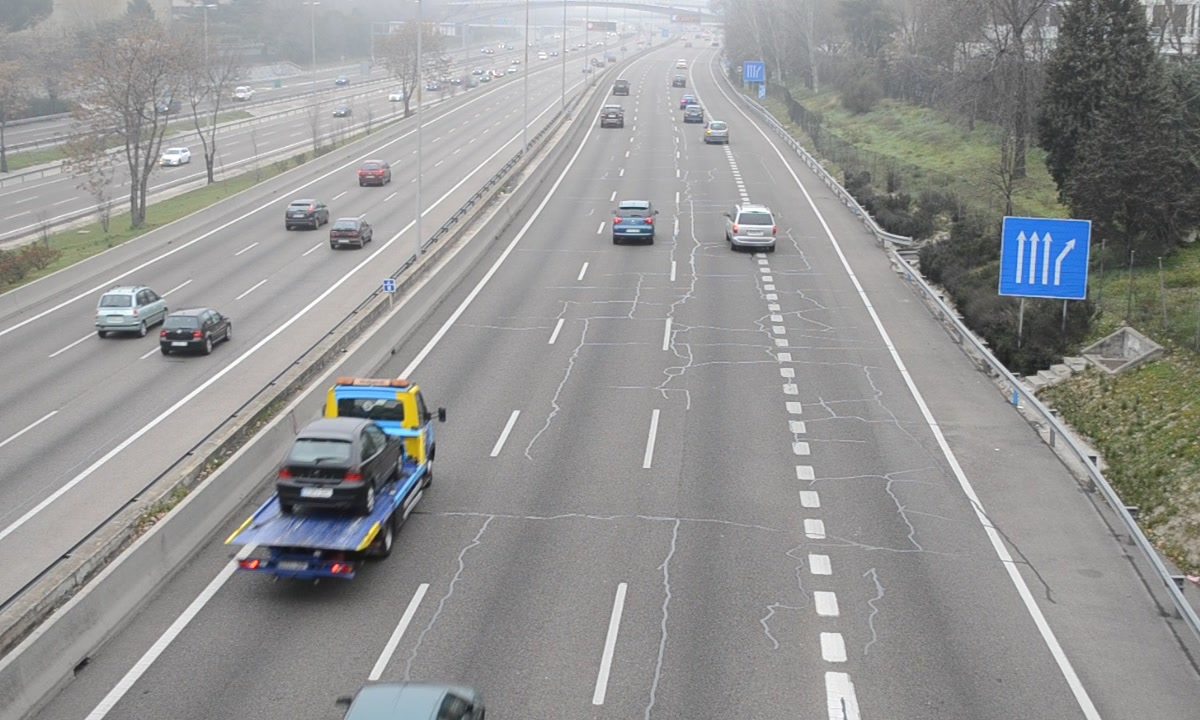car: (729, 203, 778, 251), (613, 198, 656, 240), (704, 120, 729, 146), (600, 105, 625, 129)
small-truck: (226, 375, 436, 576)
